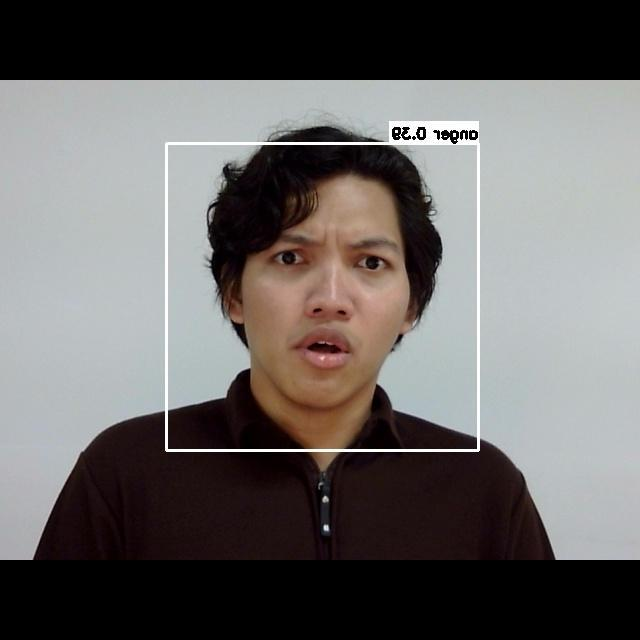Surprised: (244, 201, 419, 394)
